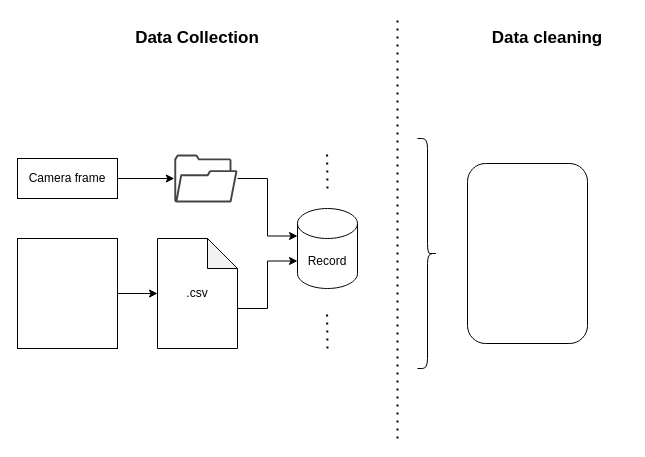
The diagram is 645 pixels wide and 457 high, and some of its shapes have lost their labels. Each missing label, with the box of its shape:
CAN data: - Steer angle - Vehicle speed - indicators - ...: (16, 238, 118, 348)
Drop samples: V < 30km/h |SWA| > 90° Blinker ...: (466, 162, 588, 344)
